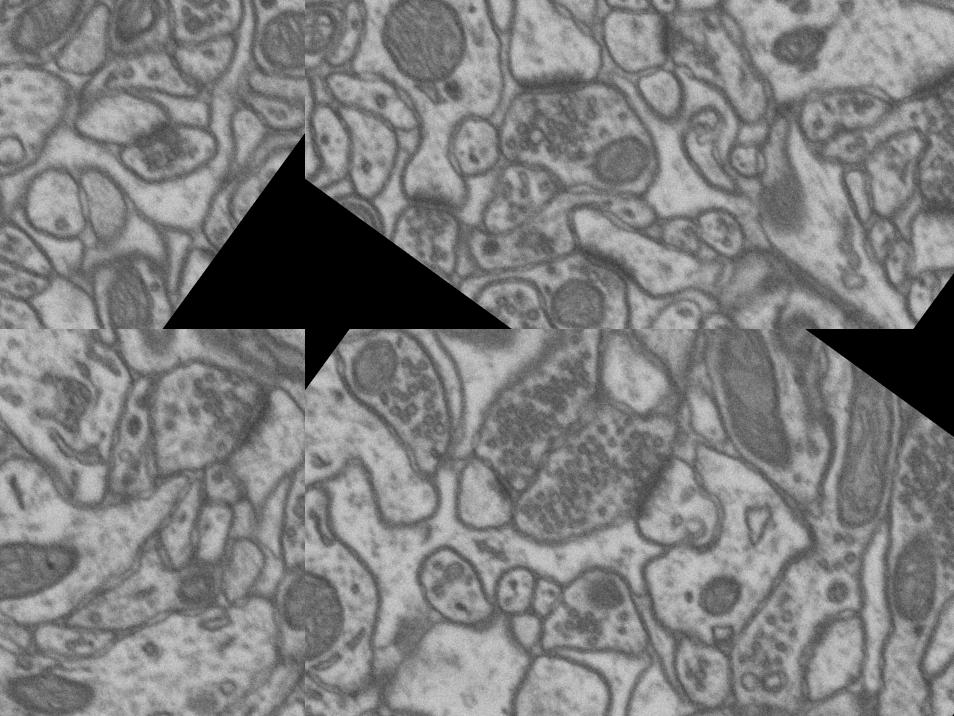mitochondria: (651, 329, 865, 501), (765, 357, 943, 537), (0, 480, 102, 654), (343, 0, 490, 110), (305, 538, 379, 697), (702, 261, 875, 329), (710, 329, 848, 409), (546, 119, 648, 224), (67, 241, 184, 329), (554, 553, 648, 646), (325, 329, 419, 417), (0, 640, 101, 716), (0, 0, 103, 73), (522, 253, 618, 329), (768, 0, 856, 78), (684, 550, 762, 632), (156, 547, 235, 627), (242, 0, 305, 94), (258, 546, 305, 651), (96, 0, 176, 58), (338, 189, 394, 236), (623, 308, 741, 329), (735, 693, 820, 716)
